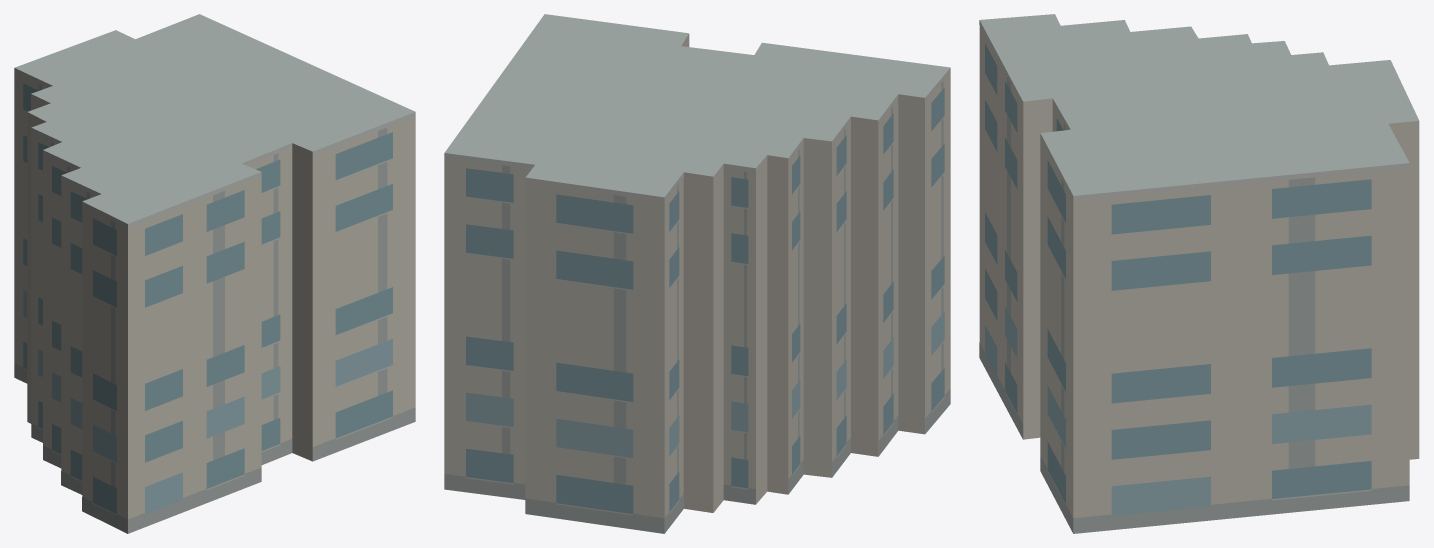
File: survey-upis-32802157.glb
3 views of the same model, side by side, from view 1: azimuth 30°, elevation 25°; view 2: azimuth 150°, elevation 25°; view 3: azimuth 270°, elevation 25° (orthographic). The views are drawn at different scales.
Visible parts, largest first — view 1: survey-upis-32802157.tmp; view 2: survey-upis-32802157.tmp; view 3: survey-upis-32802157.tmp.
Boxes of the visible parts, <box> form: survey-upis-32802157.tmp: <box>14,14,415,533</box>; survey-upis-32802157.tmp: <box>444,14,950,533</box>; survey-upis-32802157.tmp: <box>979,14,1419,533</box>.
Size of the model in its own units: 18.95 by 16.4 by 19.36.
